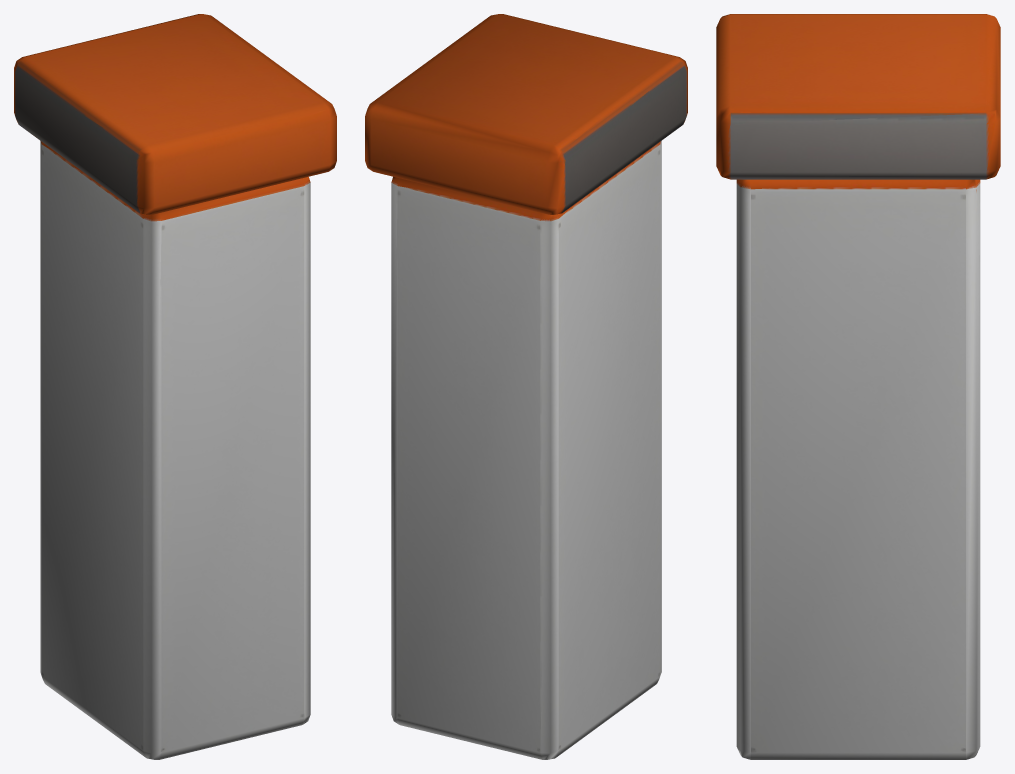
The model's file is fuel-pump-shell-tripo-original.glb.
The picture shows the model from 3 angles, left to right: view 1: azimuth 30°, elevation 25°; view 2: azimuth 150°, elevation 25°; view 3: azimuth 270°, elevation 25°; orthographic projection. The views are drawn at different scales.
Visible parts, largest first — view 1: Authored_surface_011; view 2: Authored_surface_011; view 3: Authored_surface_011.
Part boxes in pixels (box(x1,y1,x2,y2)): Authored_surface_011: box(14, 14, 336, 759); Authored_surface_011: box(365, 14, 687, 759); Authored_surface_011: box(716, 14, 1000, 759).
Bounding box in the file's own units: 0.3333 × 1 × 0.3889.
1 material, 1 textured.
